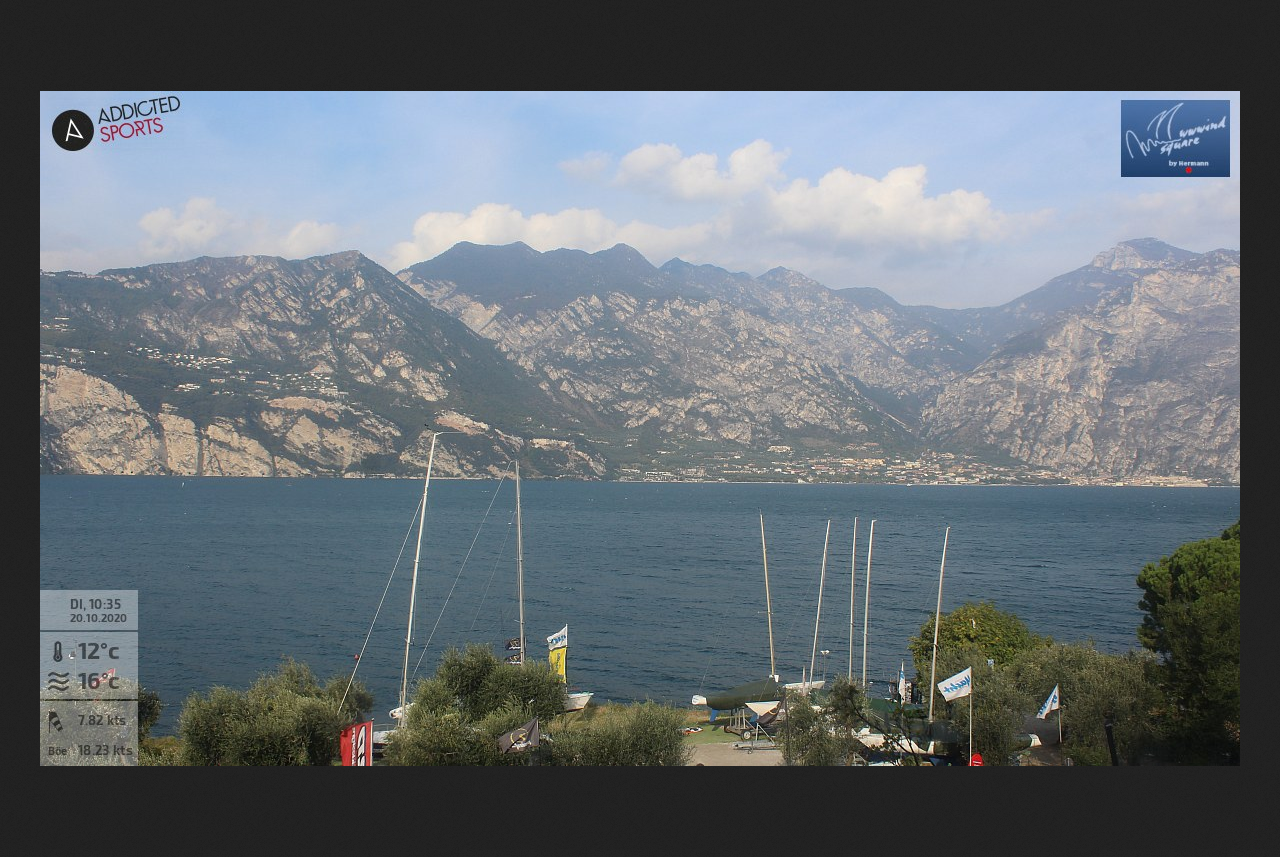maybe: (934, 668, 973, 708), (1032, 683, 1068, 726)
